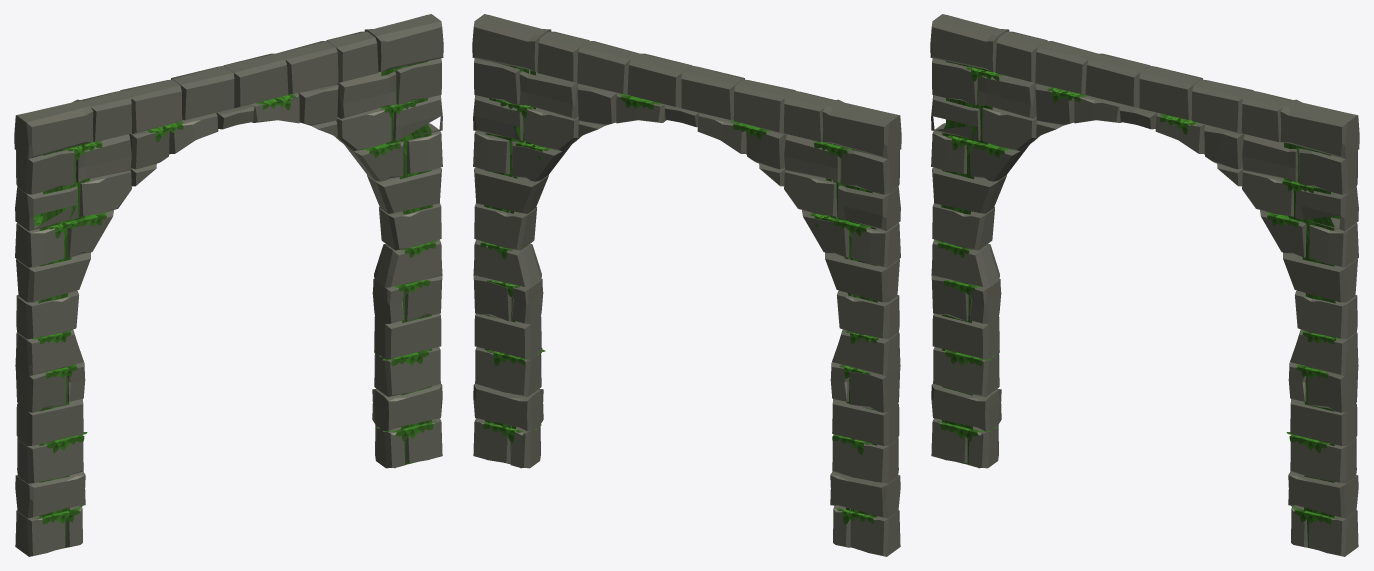
The model's file is arch.glb.
3 renders of one model, left to right at view 1: azimuth 30°, elevation 25°; view 2: azimuth 150°, elevation 25°; view 3: azimuth 330°, elevation 25°, orthographic.
Visible parts, largest first — view 1: Wall_ArchRound_Overgrown; view 2: Wall_ArchRound_Overgrown; view 3: Wall_ArchRound_Overgrown.
Boxes of the visible parts, left/top/right/bottom form: Wall_ArchRound_Overgrown: left=14, top=14, right=443, bottom=556; Wall_ArchRound_Overgrown: left=472, top=14, right=901, bottom=556; Wall_ArchRound_Overgrown: left=930, top=14, right=1359, bottom=556.
Size of the model in its own units: 4 by 3.99 by 0.3161.
3 materials, 1 textured.
